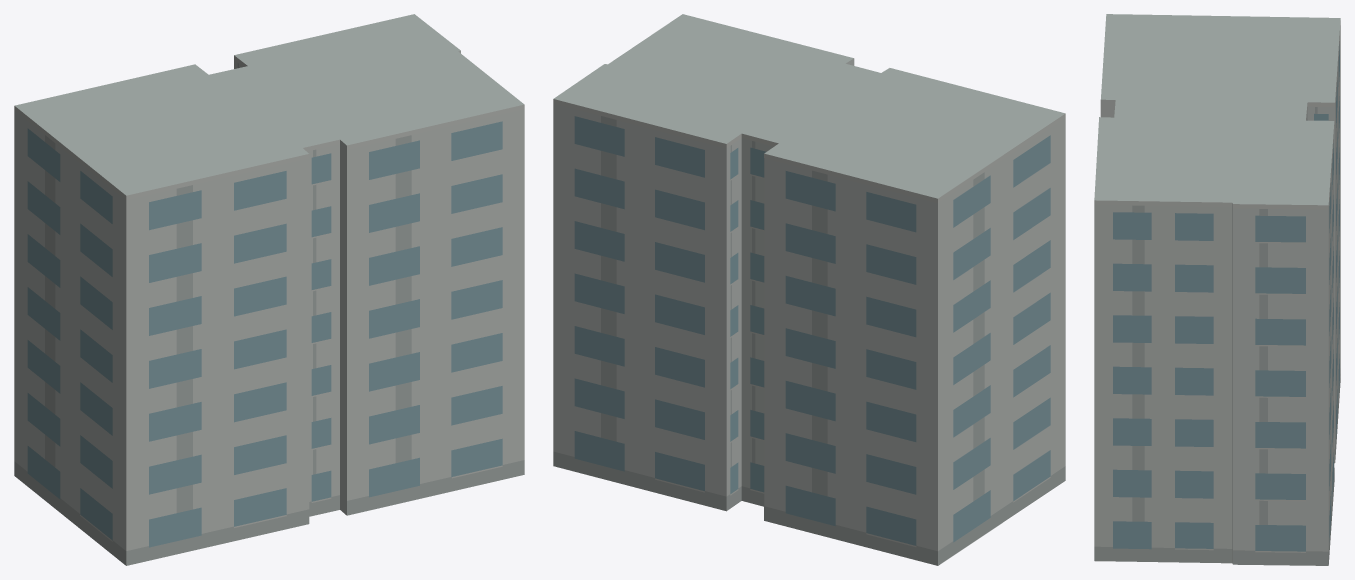
Rendered from survey-upis-32669578.glb.
3 views of the same model, side by side, from view 1: azimuth 30°, elevation 25°; view 2: azimuth 150°, elevation 25°; view 3: azimuth 270°, elevation 25° (orthographic). The views are drawn at different scales.
Parts seen in each view (by area): view 1: survey-upis-32669578.tmp; view 2: survey-upis-32669578.tmp; view 3: survey-upis-32669578.tmp.
Boxes of the visible parts, x1,y1,x2,y2 form: survey-upis-32669578.tmp: (14, 14, 524, 565); survey-upis-32669578.tmp: (553, 14, 1065, 565); survey-upis-32669578.tmp: (1094, 14, 1340, 565).
Bounding box in the file's own units: 22.51 × 19.78 × 12.26.
